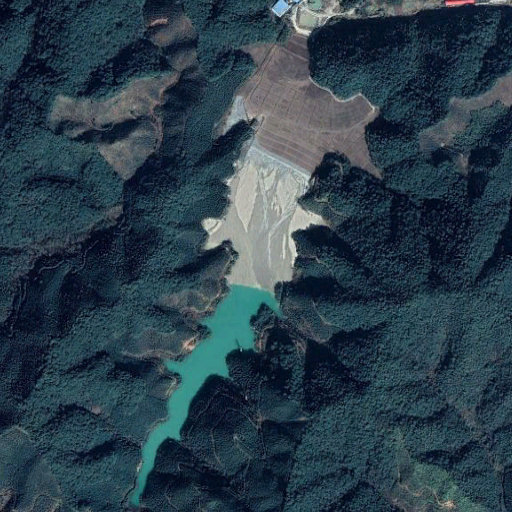tp: (119, 34, 383, 505)
